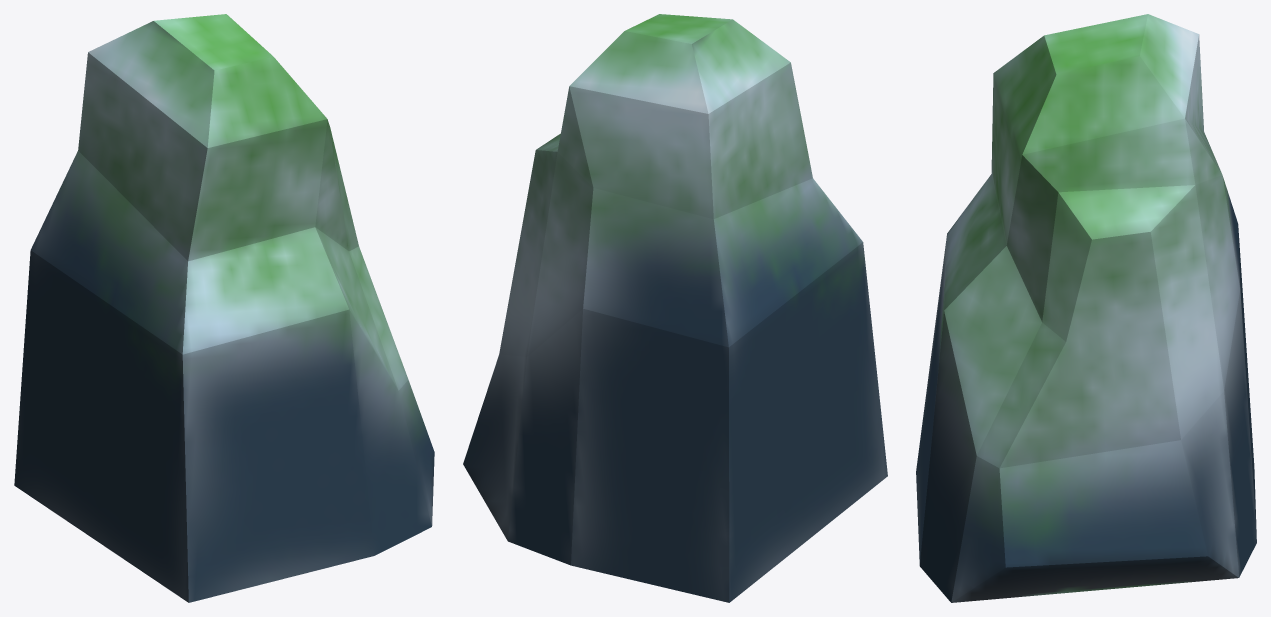
Rendered from Rock_Moss_1.fbx.
3 views of the same model, side by side, from view 1: azimuth 30°, elevation 25°; view 2: azimuth 150°, elevation 25°; view 3: azimuth 270°, elevation 25° (orthographic). The views are drawn at different scales.
Parts seen in each view (by area): view 1: Rock_Moss_1; view 2: Rock_Moss_1; view 3: Rock_Moss_1.
Part boxes in pixels (bbox=[...]): Rock_Moss_1: bbox=[14, 14, 434, 602]; Rock_Moss_1: bbox=[463, 14, 887, 602]; Rock_Moss_1: bbox=[916, 14, 1256, 602].
Size of the model in its own units: 0.4713 by 0.7225 by 0.4494.
